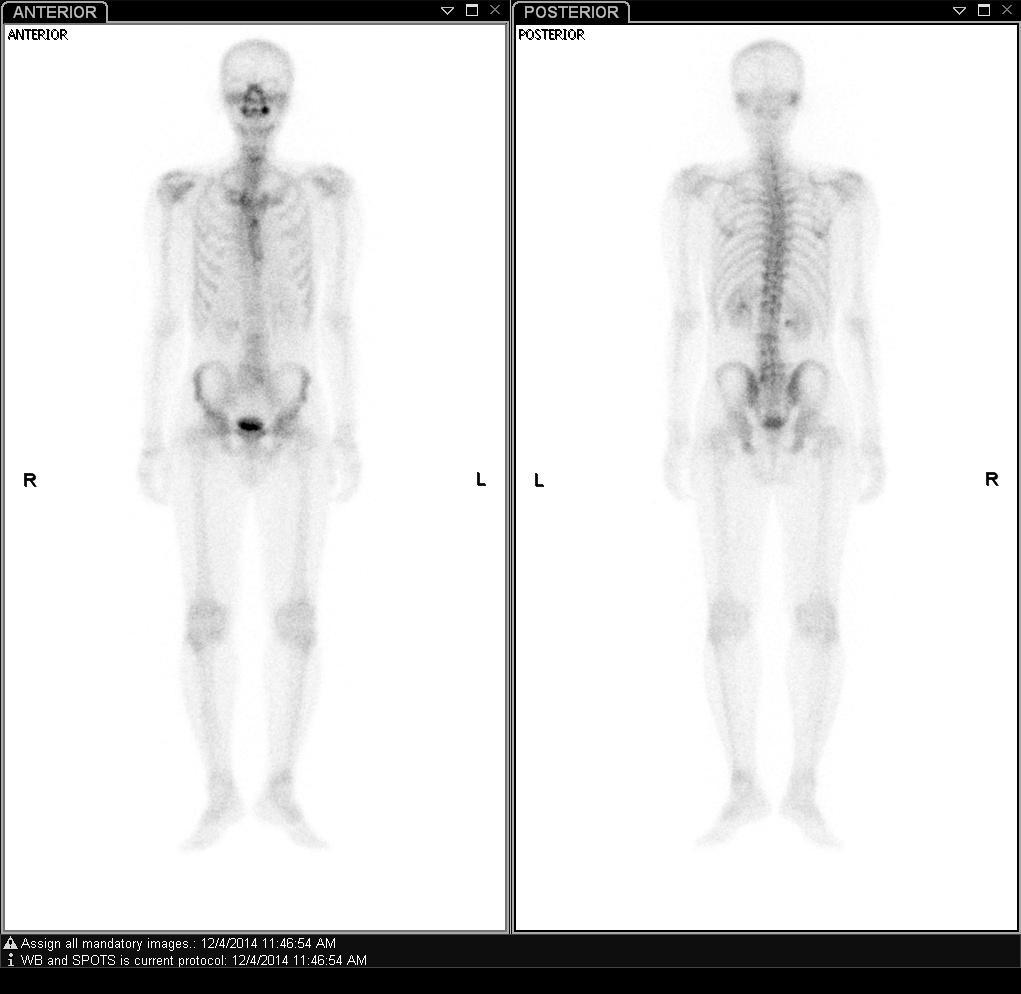person: (3, 24, 1021, 928)
